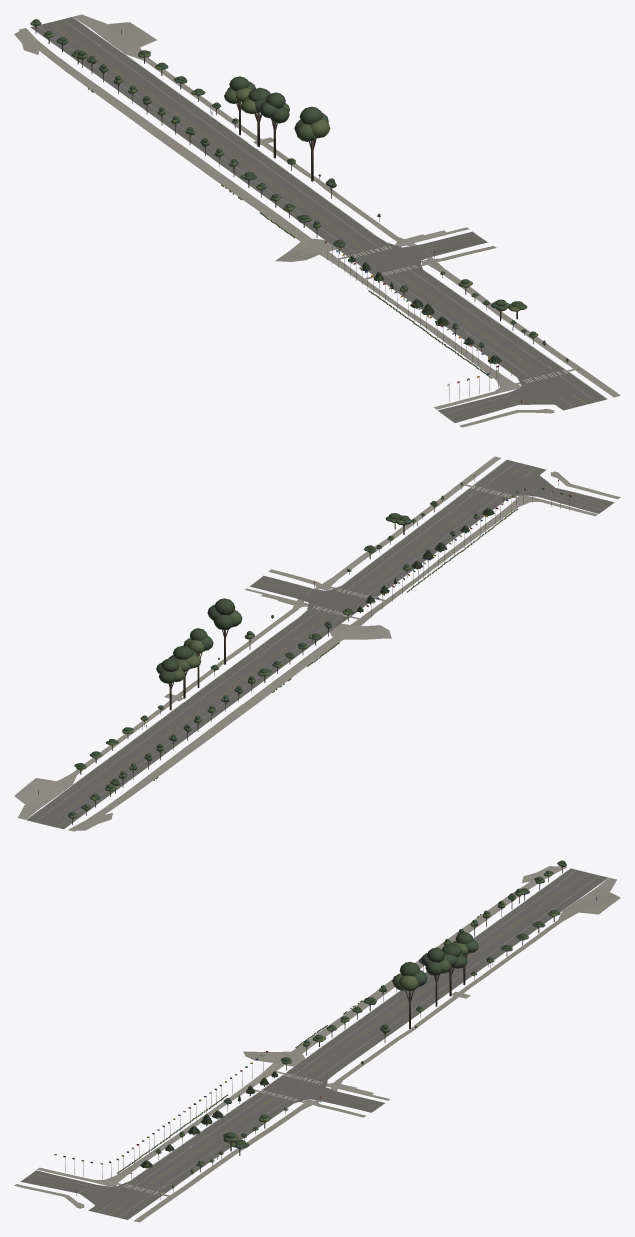
Rendered from site.glb.
3 views of the same model, one above another, from view 1: azimuth 30°, elevation 25°; view 2: azimuth 150°, elevation 25°; view 3: azimuth 330°, elevation 25° (orthographic). The views are drawn at different scales.
Visible parts, largest first — view 1: agate-fifteenth-eighteenth-paving, agate-fifteenth-eighteenth-planting, agate-fifteenth-eighteenth-markings, agate-fifteenth-eighteenth-furnishings; view 2: agate-fifteenth-eighteenth-paving, agate-fifteenth-eighteenth-planting, agate-fifteenth-eighteenth-markings, agate-fifteenth-eighteenth-furnishings; view 3: agate-fifteenth-eighteenth-paving, agate-fifteenth-eighteenth-planting, agate-fifteenth-eighteenth-markings, agate-fifteenth-eighteenth-furnishings.
Boxes of the visible parts, bbox=[...] form: agate-fifteenth-eighteenth-paving: bbox=[14, 14, 620, 427]; agate-fifteenth-eighteenth-planting: bbox=[30, 19, 568, 378]; agate-fifteenth-eighteenth-markings: bbox=[38, 19, 596, 416]; agate-fifteenth-eighteenth-furnishings: bbox=[121, 29, 579, 402]; agate-fifteenth-eighteenth-paving: bbox=[14, 456, 620, 831]; agate-fifteenth-eighteenth-planting: bbox=[68, 482, 517, 824]; agate-fifteenth-eighteenth-markings: bbox=[35, 462, 607, 827]; agate-fifteenth-eighteenth-furnishings: bbox=[38, 475, 580, 794]; agate-fifteenth-eighteenth-paving: bbox=[14, 866, 620, 1222]; agate-fifteenth-eighteenth-planting: bbox=[117, 860, 566, 1192]; agate-fifteenth-eighteenth-markings: bbox=[29, 870, 598, 1217]; agate-fifteenth-eighteenth-furnishings: bbox=[54, 896, 596, 1199].
Bounding box in the file's own units: 83 × 28.35 × 362.
